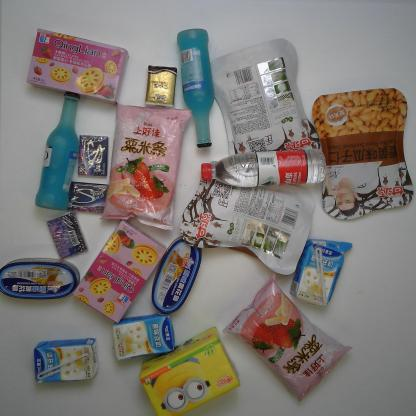Alcohol: (37, 89, 81, 208), (176, 25, 216, 150)
Canned Food: (152, 235, 203, 315), (1, 255, 80, 301)
Dessert: (69, 220, 168, 323), (26, 28, 128, 104)
Dried Fruit: (206, 36, 322, 169), (179, 169, 317, 277), (310, 88, 416, 222)
Drink: (199, 151, 327, 188)
Gum: (45, 214, 88, 258), (77, 132, 108, 177), (69, 181, 111, 213)
Milk: (290, 236, 351, 306), (111, 309, 175, 362), (31, 336, 99, 384)
Puffed Food: (223, 270, 353, 404), (96, 100, 194, 231)
Tissue: (137, 325, 242, 416), (146, 63, 177, 107)
